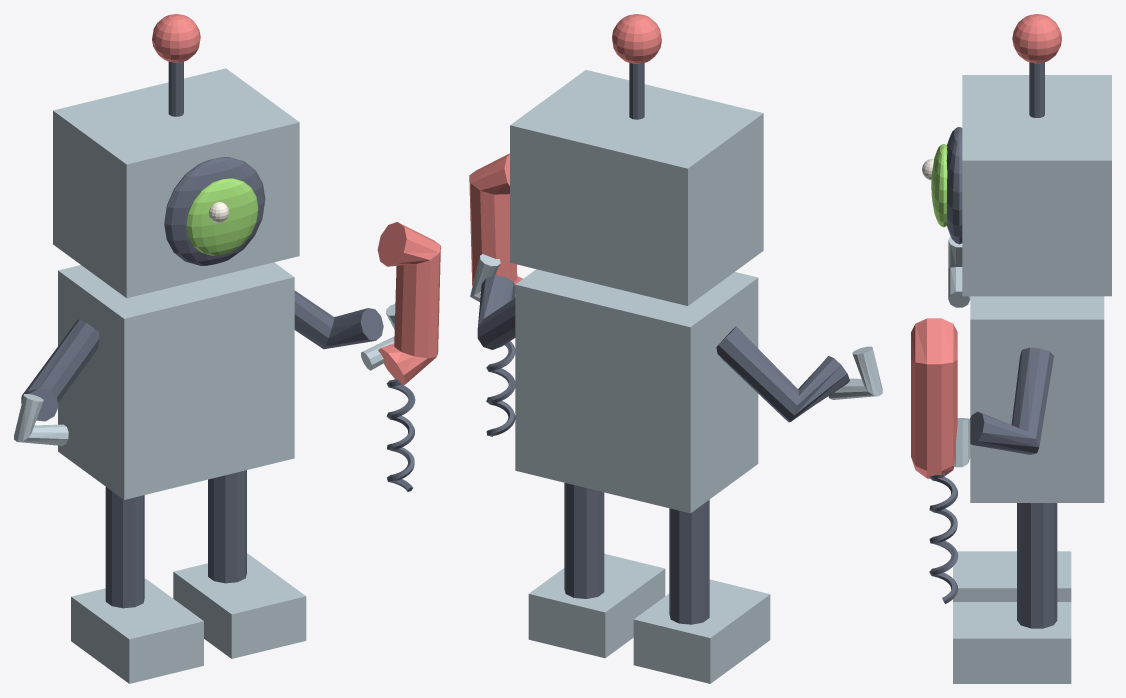
Rendered from tall-robot.glb.
3 renders of one model, left to right at view 1: azimuth 30°, elevation 25°; view 2: azimuth 150°, elevation 25°; view 3: azimuth 270°, elevation 25°, orthographic. The views are drawn at different scales.
Parts seen in each view (by area): view 1: torso, head, foot (×2), leg (×2), telephone-handset, jointed-arm (×2), eye-socket, green-eye, clamp (×2), red-bulb, coiled-phone-cord, antenna; view 2: torso, head, foot (×2), leg (×2), jointed-arm (×2), telephone-handset, clamp (×2), red-bulb, coiled-phone-cord, antenna; view 3: head, torso, foot (×2), telephone-handset, leg, jointed-arm, red-bulb, clamp (×2), eye-socket, coiled-phone-cord, green-eye, antenna.
Boxes of the visible parts, box(x1,y1,x2,y2) form: torso: box(58, 262, 294, 499); head: box(53, 68, 299, 298); foot (×2): box(71, 553, 306, 683); leg (×2): box(105, 470, 246, 608); telephone-handset: box(377, 222, 440, 385); jointed-arm (×2): box(21, 290, 383, 421); eye-socket: box(164, 157, 265, 265); green-eye: box(186, 178, 258, 255); clamp (×2): box(14, 304, 395, 445); red-bulb: box(152, 14, 200, 62); coiled-phone-cord: box(386, 379, 415, 491); antenna: box(168, 61, 183, 116); torso: box(515, 269, 758, 513); head: box(510, 70, 763, 305); foot (×2): box(528, 553, 770, 683); leg (×2): box(564, 482, 709, 624); jointed-arm (×2): box(477, 275, 849, 422); telephone-handset: box(469, 153, 522, 298); clamp (×2): box(470, 254, 882, 399); red-bulb: box(612, 14, 661, 63); coiled-phone-cord: box(486, 341, 515, 436); antenna: box(629, 63, 644, 119); head: box(962, 75, 1111, 296); torso: box(970, 296, 1104, 502); foot (×2): box(953, 551, 1071, 683); telephone-handset: box(911, 318, 957, 478); leg: box(1017, 503, 1057, 628); jointed-arm: box(970, 347, 1053, 454); red-bulb: box(1012, 14, 1061, 63); clamp (×2): box(948, 236, 970, 467); eye-socket: box(946, 127, 962, 244); coiled-phone-cord: box(929, 473, 958, 603); green-eye: box(931, 144, 947, 227); antenna: box(1029, 62, 1044, 117).
Bounding box in the file's own units: 1.54 × 2.21 × 0.645.
